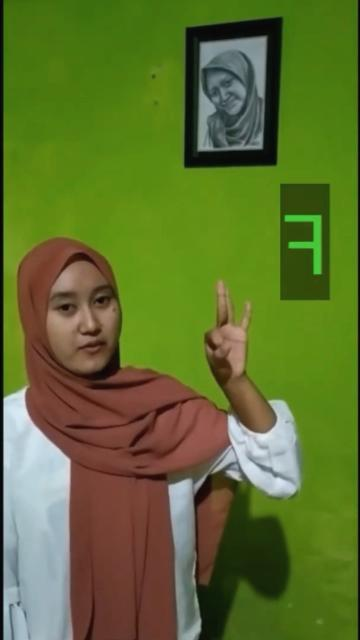F: (197, 274, 256, 392)
